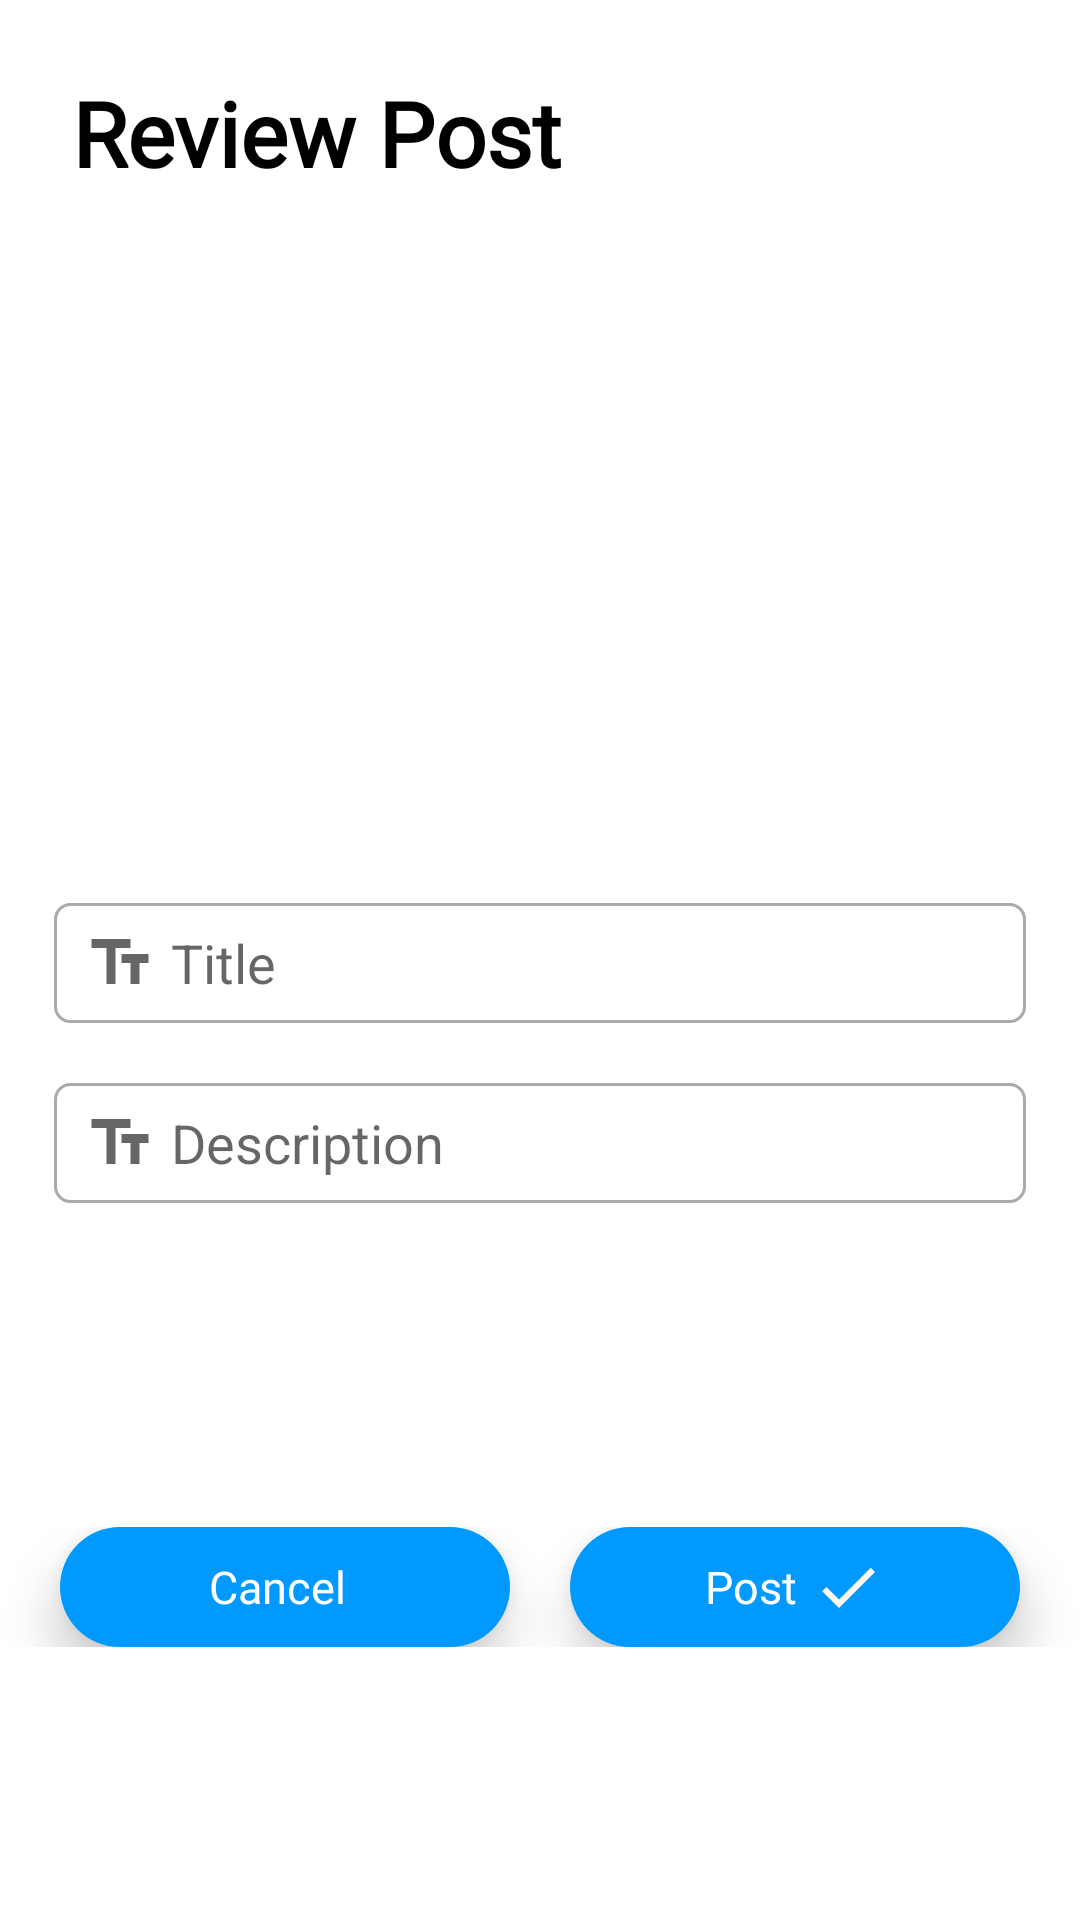

Screen size 1080 × 1920. Icon name, then its center in pixels as [x,y]:
check: [848,1588]
